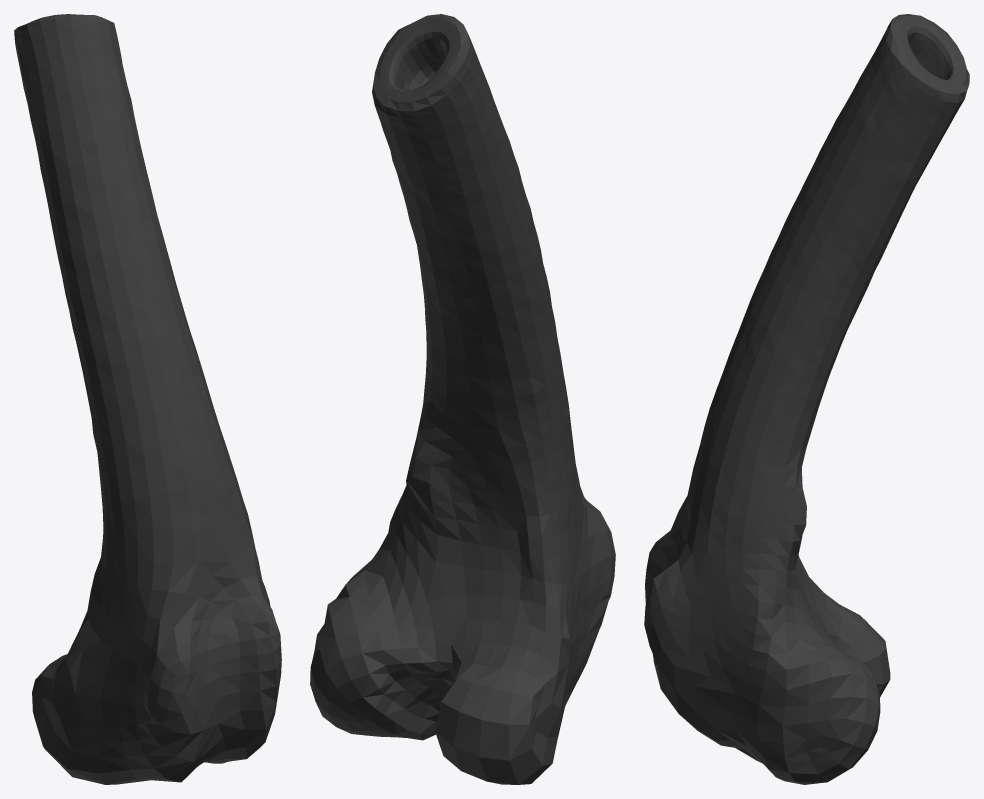
The model's file is Femur.glb.
The picture shows the model from 3 angles, left to right: view 1: azimuth 30°, elevation 25°; view 2: azimuth 150°, elevation 25°; view 3: azimuth 270°, elevation 25°; orthographic projection. The views are drawn at different scales.
Parts seen in each view (by area): view 1: Femur; view 2: Femur; view 3: Femur.
Boxes of the visible parts, <box> form: Femur: <box>14,14,281,784</box>; Femur: <box>310,14,615,784</box>; Femur: <box>644,14,969,784</box>.
Bounding box in the file's own units: 0.3214 × 1.06 × 0.4395.
Materials: 1 (1 with a texture image).
